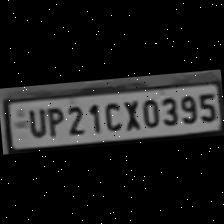0: (138, 94, 162, 128)
1: (84, 100, 104, 134)
2: (61, 101, 88, 136)
3: (158, 92, 178, 126)
5: (196, 88, 218, 123)
9: (176, 90, 198, 124)
C: (100, 97, 123, 132)
P: (43, 102, 64, 138)
U: (22, 105, 47, 139)
X: (119, 96, 141, 131)
